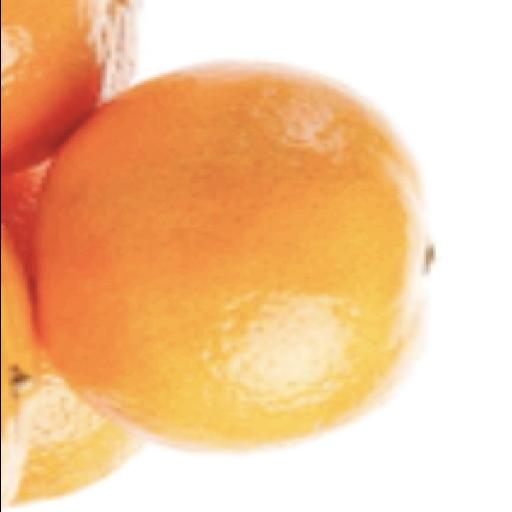orange: (34, 63, 432, 451), (1, 0, 135, 172), (13, 338, 142, 505), (13, 350, 142, 505), (1, 223, 38, 507)
